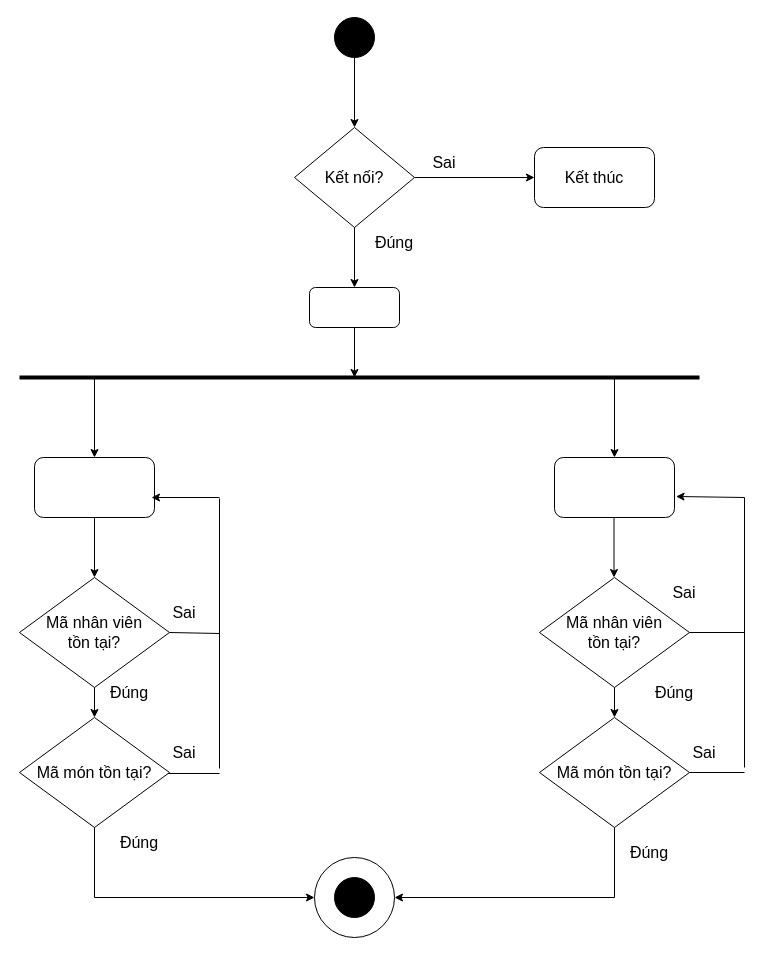
The diagram is 770 pixels wide and 955 high, and some of its shapes have lost their labels. Here are the shapes that lost their labels. From the top down, the centre of each, then its label:
At point (354, 307): "Thanh toán".
At point (94, 487): "Thêm".
At point (614, 487): "Sửa".
